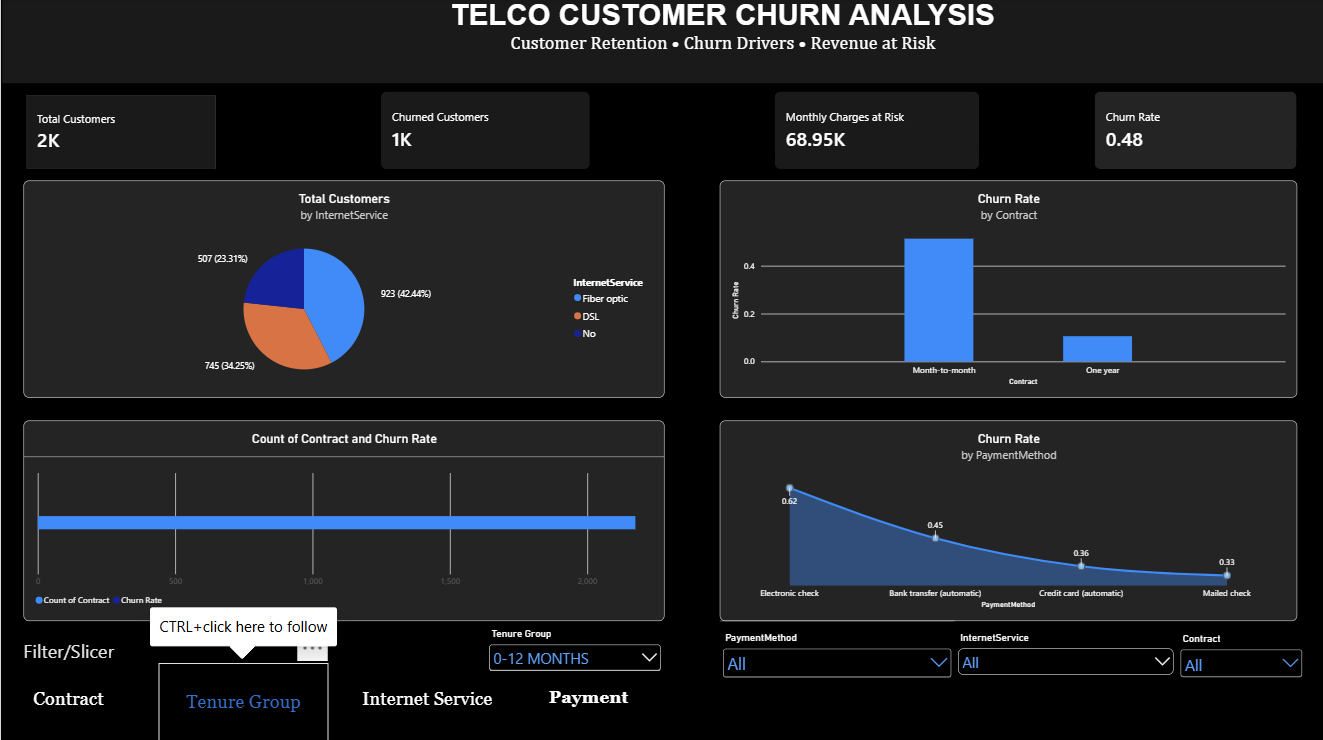

This screenshot's page, from the dashboard's own definition file:
{"tool":"powerbi","page":{"name":"Page 1","canvas":[1920,1080],"ordinal":0},"visuals":[{"type":"cardVisual","fields":{"Data":["churn customer_churn.Total Customers"]},"box":[36,142,274,106],"z":0},{"type":"cardVisual","fields":{"Data":["churn customer_churn.Churned Customers"]},"box":[550,136,302,112],"z":1000},{"type":"cardVisual","fields":{"Data":["churn customer_churn.Monthly Charges at Risk"]},"box":[1120,136,296,112],"z":2000},{"type":"barChart","fields":{"Y":["CountNonNull(churn customer_churn.Contract)","churn customer_churn.Churn Rate"]},"box":[32,612,928,290],"z":3000},{"type":"cardVisual","fields":{"Data":["churn customer_churn.Churn Rate"]},"box":[1584,136,292,112],"z":4000},{"type":"pieChart","fields":{"Category":["churn customer_churn.InternetService"],"Y":["churn customer_churn.Total Customers"]},"box":[32,264,928,314],"z":5000},{"type":"areaChart","fields":{"Category":["churn customer_churn.PaymentMethod"],"Y":["churn customer_churn.Churn Rate"]},"box":[1040,612,836,290],"z":6000},{"type":"textbox","box":[1.4,0,1918.6,122.9],"z":7000},{"type":"columnChart","fields":{"Category":["churn customer_churn.Contract"],"Y":["churn customer_churn.Churn Rate"]},"box":[1040,264,836,314],"z":8000},{"type":"actionButton","box":[2,958,192,114],"z":9000},{"type":"actionButton","box":[228,962,246,114],"z":10000},{"type":"actionButton","box":[454,968,326,94],"z":11000},{"type":"actionButton","box":[742,968,218,90],"z":12000},{"type":"textbox","box":[32,926,928,60],"z":13000},{"type":"slicer","fields":{"Values":["churn customer_churn.InternetService"]},"box":[1380,918,322,82],"z":14000},{"type":"slicer","fields":{"Values":["churn customer_churn.Contract"]},"box":[1702,920,186,84],"z":15000},{"type":"slicer","fields":{"Values":["churn customer_churn.Tenure Group"]},"box":[702,912,258,62],"z":16000},{"type":"slicer","fields":{"Values":["churn customer_churn.PaymentMethod"]},"box":[1040,902,340,84],"z":17000}]}

Visuals, with their boxes in screenshot pixels (x1, y1, x2, y2), scaled from the page's 1920x1080 canvas onto the 1323x740 screenshot:
cardVisual - churn customer_churn.Total Customers: locate(25, 97, 214, 170)
cardVisual - churn customer_churn.Churned Customers: locate(379, 93, 587, 170)
cardVisual - churn customer_churn.Monthly Charges at Risk: locate(772, 93, 976, 170)
barChart - CountNonNull(churn customer_churn.Contract) x churn customer_churn.Churn Rate: locate(22, 419, 662, 618)
cardVisual - churn customer_churn.Churn Rate: locate(1091, 93, 1293, 170)
pieChart - churn customer_churn.InternetService x churn customer_churn.Total Customers: locate(22, 181, 662, 396)
areaChart - churn customer_churn.PaymentMethod x churn customer_churn.Churn Rate: locate(717, 419, 1293, 618)
textbox: locate(1, 0, 1322, 84)
columnChart - churn customer_churn.Contract x churn customer_churn.Churn Rate: locate(717, 181, 1293, 396)
actionButton: locate(1, 656, 134, 735)
actionButton: locate(157, 659, 327, 737)
actionButton: locate(313, 663, 537, 728)
actionButton: locate(511, 663, 662, 725)
textbox: locate(22, 634, 662, 676)
slicer - churn customer_churn.InternetService: locate(951, 629, 1173, 685)
slicer - churn customer_churn.Contract: locate(1173, 630, 1301, 688)
slicer - churn customer_churn.Tenure Group: locate(484, 625, 662, 667)
slicer - churn customer_churn.PaymentMethod: locate(717, 618, 951, 676)
